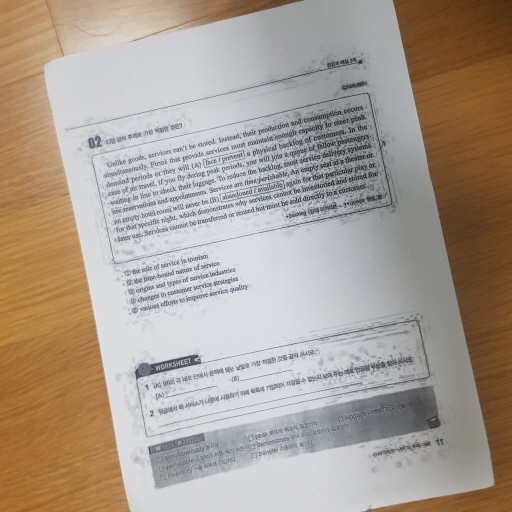Paper_2: (41, 1, 498, 512)
